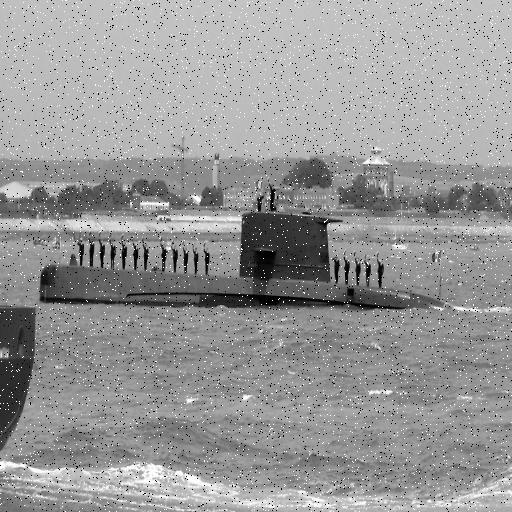submarine: (38, 213, 470, 312)
